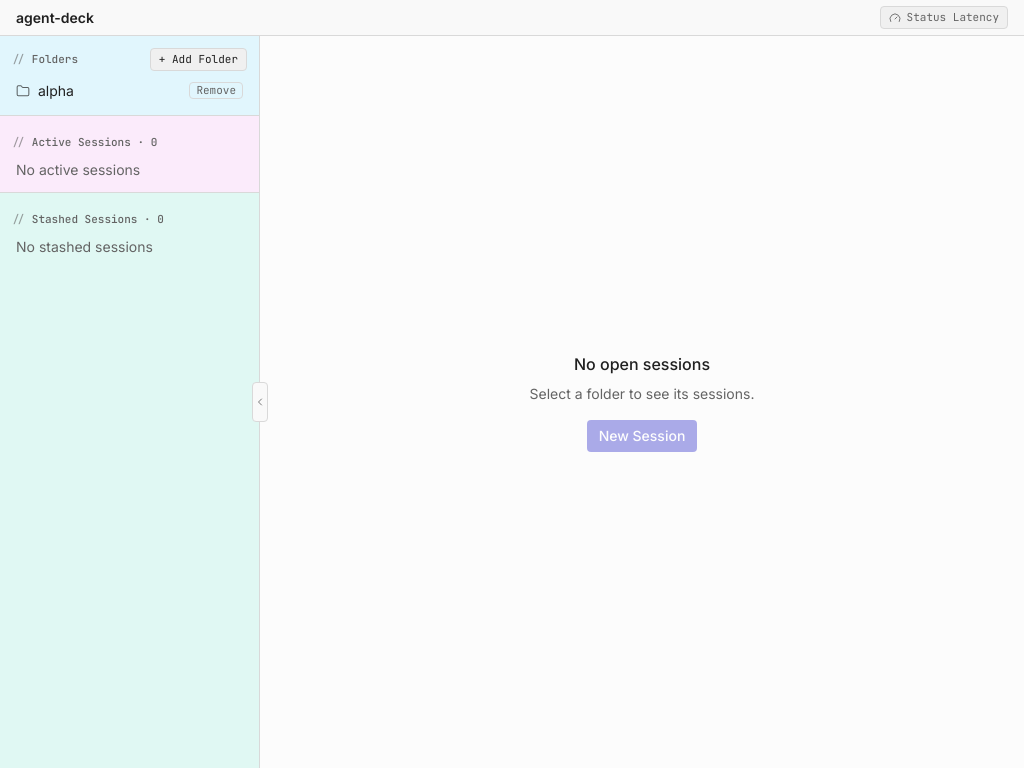
Test: removing (5.3) › keeps the entry and explains when sessions are open
What coordinates should you click on to do the following:
click the button "Remove "
I would click on:
 (216, 90)
Its box is top-left (189, 82), bottom-right (243, 99).
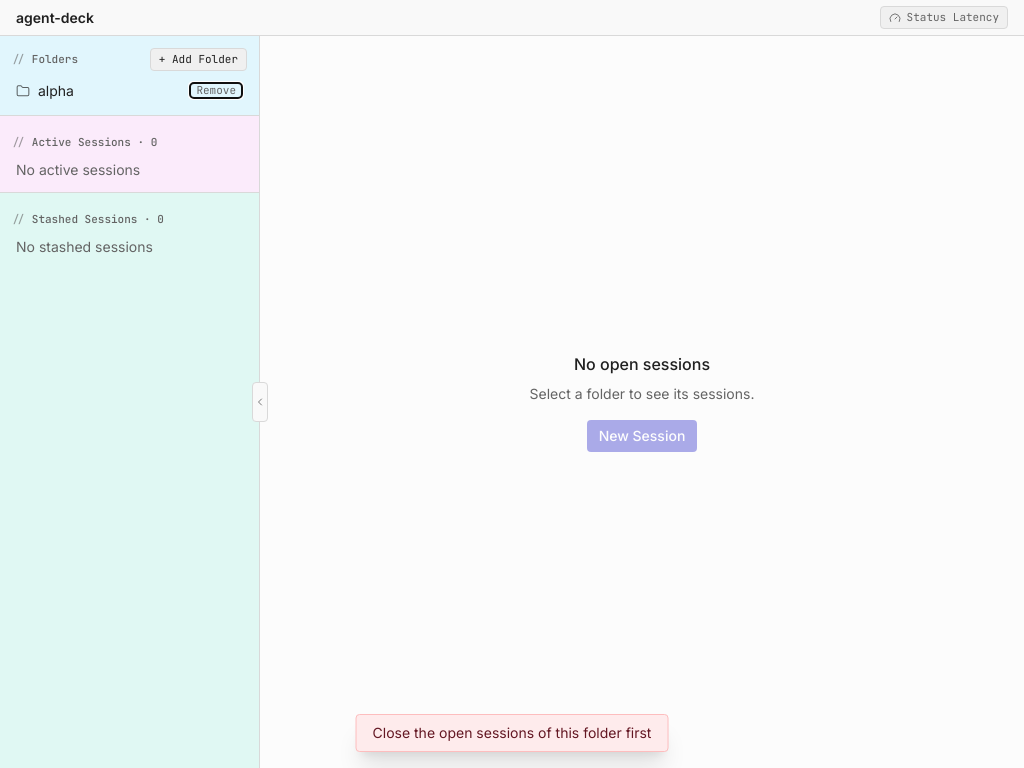
Expected: the text "alpha" is shown, top-left (38, 80), bottom-right (74, 100)
Now the text "Close the open sessions of this folder first" is shown, box top-left (356, 714), bottom-right (668, 752)
